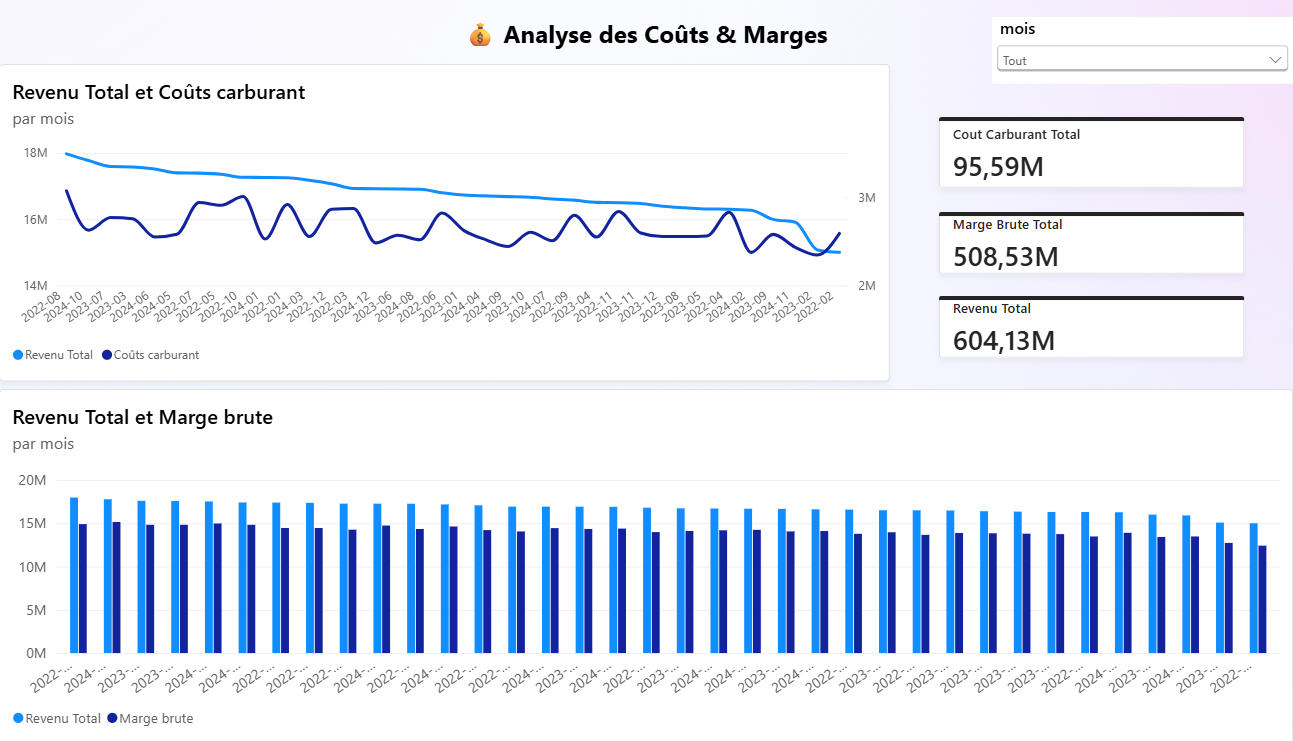

What the dashboard file says about the page in this screenshot:
{"tool":"powerbi","page":{"name":"Coûts & Marges","canvas":[1280,720],"ordinal":3},"visuals":[{"type":"lineChart","fields":{"Y":["Sum(marge.revenu_total)"],"Y2":["Sum(marge.cout_carburant)"],"Category":["marge.mois.Variation.Hiérarchie de dates.Année"]},"box":[0,46.2,881,314],"z":0},{"type":"clusteredColumnChart","fields":{"Category":["marge.mois.Variation.Hiérarchie de dates.Année"],"Y":["Sum(marge.revenu_total)","Sum(marge.marge_brute)"]},"box":[0,367.5,1280,352.5],"z":1000},{"type":"cardVisual","fields":{"Data":["marge.Revenu Total"]},"box":[930,276.2,302.5,61.2],"z":2000},{"type":"cardVisual","fields":{"Data":["marge.Marge Brute Total"]},"box":[930,192.5,302.5,61.2],"z":3000},{"type":"cardVisual","fields":{"Data":["marge.Cout Carburant Total"]},"box":[930,98.8,302.5,70],"z":4000},{"type":"textbox","box":[416.2,0,446.2,45],"z":4001},{"type":"slicer","fields":{"Values":["revenus_mois.mois"]},"box":[982.5,0,297.5,66.2],"z":4002}]}

Visuals, with their boxes in screenshot pixels (x1, y1, x2, y2), scaled from the page's 1280x720 canvas onto the 1293x741 screenshot:
lineChart - Sum(marge.revenu_total) x Sum(marge.cout_carburant): {"left": 0, "top": 48, "right": 890, "bottom": 371}
clusteredColumnChart - marge.mois.Variation.Hiérarchie de dates.Année x Sum(marge.revenu_total): {"left": 0, "top": 378, "right": 1292, "bottom": 740}
cardVisual - marge.Revenu Total: {"left": 939, "top": 284, "right": 1245, "bottom": 347}
cardVisual - marge.Marge Brute Total: {"left": 939, "top": 198, "right": 1245, "bottom": 261}
cardVisual - marge.Cout Carburant Total: {"left": 939, "top": 102, "right": 1245, "bottom": 174}
textbox: {"left": 420, "top": 0, "right": 871, "bottom": 46}
slicer - revenus_mois.mois: {"left": 992, "top": 0, "right": 1292, "bottom": 68}
